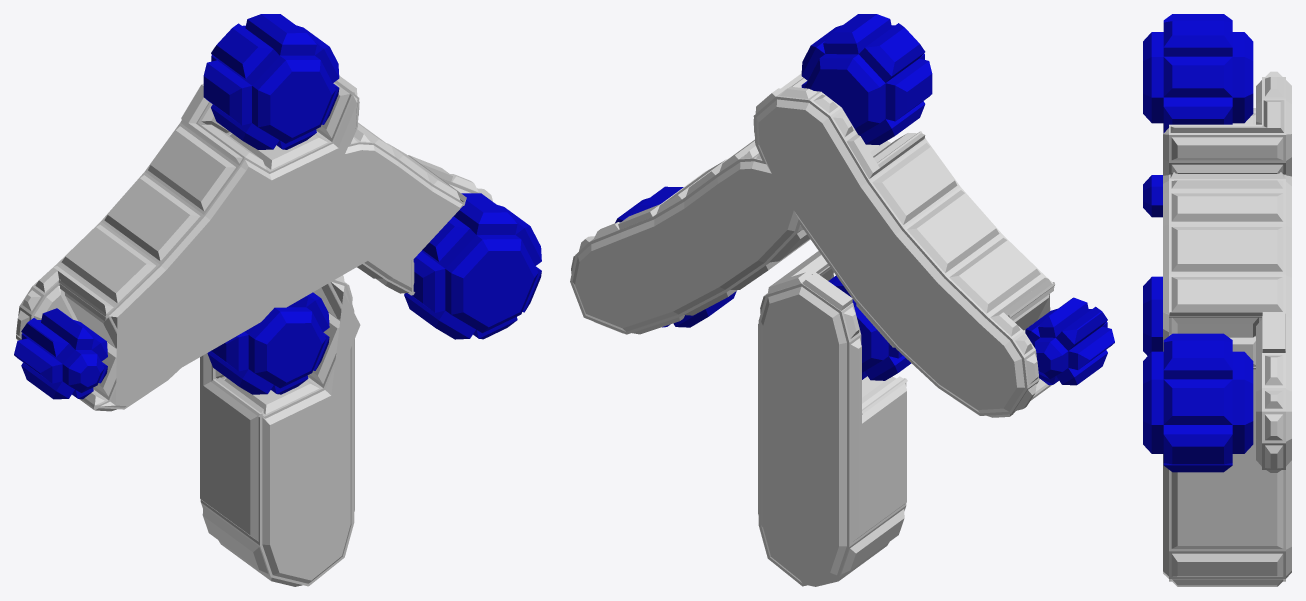
File: Ch_China_个_01.fbx
3 renders of one model, left to right at view 1: azimuth 30°, elevation 25°; view 2: azimuth 150°, elevation 25°; view 3: azimuth 270°, elevation 25°, orthographic. The views are drawn at different scales.
Parts seen in each view (by area): view 1: sphere1; view 2: sphere1; view 3: sphere1.
Boxes of the visible parts, left/top/right/bottom form: sphere1: left=14, top=14, right=541, bottom=586; sphere1: left=570, top=14, right=1114, bottom=586; sphere1: left=1143, top=14, right=1291, bottom=586.
Bounding box in the file's own units: 0.9967 × 1.04 × 0.2541.
